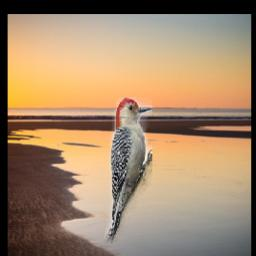Woodpecker: (103, 97, 151, 244)
